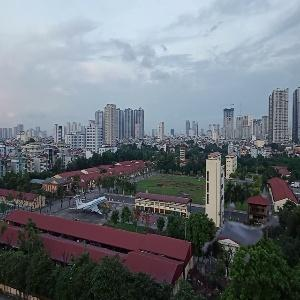drone: (205, 180, 297, 272)
